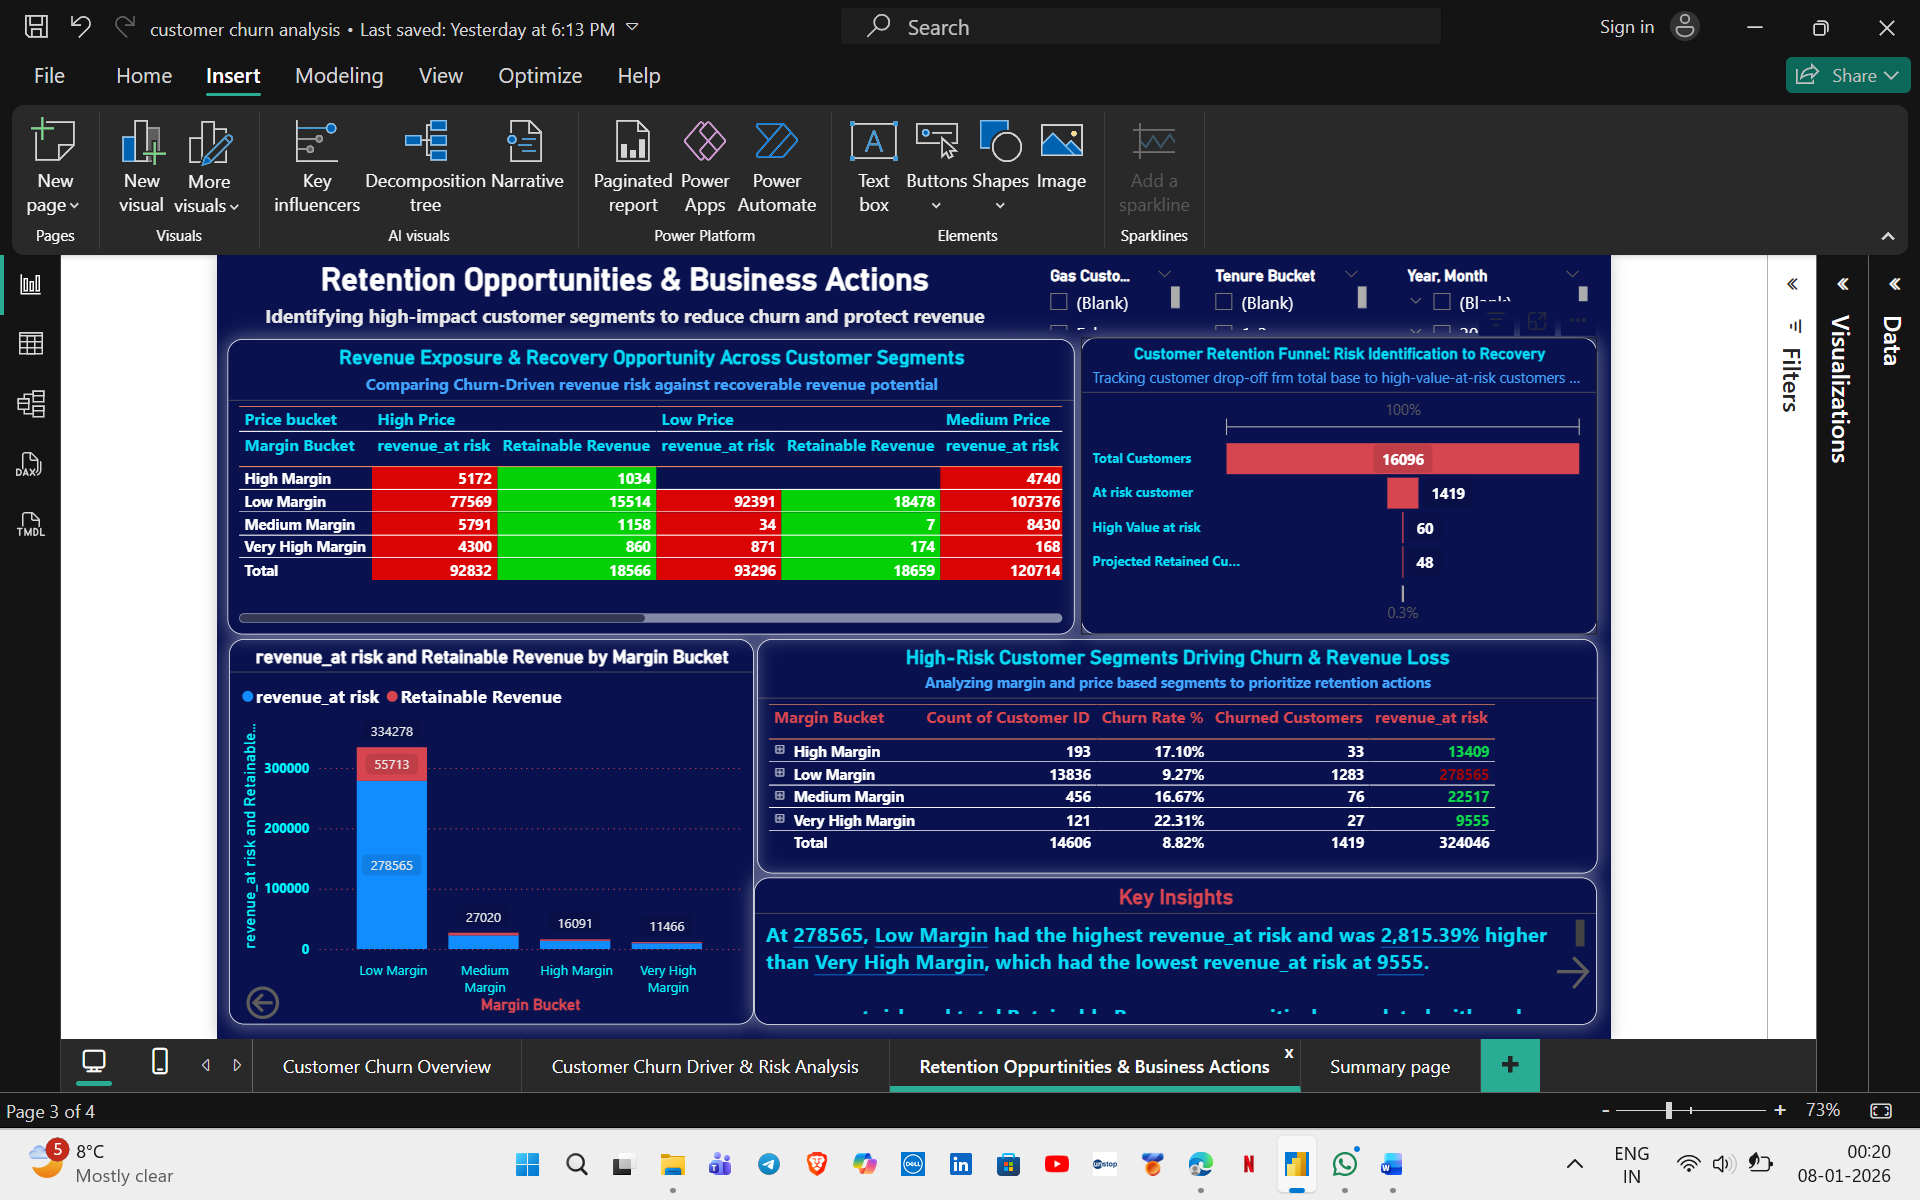

The page's visual inventory and layout, read from the dashboard file:
{"tool":"powerbi","page":{"name":"Retention Oppurtinities & Business Actions","canvas":[1280,720],"ordinal":2},"visuals":[{"type":"pivotTable","title":"High-Risk Customer Segments Driving Churn & Revenue Loss","fields":{"Rows":["client_data.Margin Bucket","client_data.Price bucket","client_data.Tenure Bucket"],"Values":["Count(client_data.Customer ID)","client_data.Churn Rate %","client_data.Churned Customers","client_data.revenue_at risk"]},"box":[496.1,352,771.7,215.5],"z":0},{"type":"shape","title":"Retention Opportunities & Business Actions","box":[10,5,729.9,68.5],"z":1000},{"type":"slicer","fields":{"Values":["client_data.Gas Customer"]},"box":[751.6,5,137,68.5],"z":2000},{"type":"slicer","fields":{"Values":["client_data.Tenure Bucket"]},"box":[903.6,5,157,68.5],"z":3000},{"type":"slicer","fields":{"Values":["Calendar.Date.Variation.Date Hierarchy.Year","Calendar.Date.Variation.Date Hierarchy.Month"]},"box":[1080.7,5,183.7,70.2],"z":4000},{"type":"columnChart","fields":{"Category":["client_data.Margin Bucket"],"Y":["client_data.revenue_at risk","client_data.Retainable Revenue"]},"box":[11,352.7,482.2,354],"z":5000},{"type":"pivotTable","title":"Revenue Exposure & Recovery Opportunity Across Customer Segments","fields":{"Rows":["client_data.Margin Bucket"],"Columns":["client_data.Price bucket"],"Values":["client_data.revenue_at risk","client_data.Retainable Revenue"]},"box":[9.6,77.1,778.3,271.4],"z":6000},{"type":"funnel","title":"Customer Retention Funnel: Risk Identification to Recovery","fields":{"Y":["client_data.Total Customers","client_data.At risk customer","client_data.High Value at risk","client_data.Projected Retained Customer"]},"box":[793.5,75.8,473.9,272.8],"z":7000},{"type":"textbox","title":"Key Insights","box":[493.2,572,774.2,135],"z":8000},{"type":"actionButton","box":[22,666.7,100.6,39.9],"z":9000},{"type":"actionButton","box":[1224.7,639.2,55.1,39.9],"z":10000}]}

Visuals, with their boxes on the page's 1280x720 design canvas (x1, y1, x2, y2). These are canvas units, not pixel positions in the 1920x1200 screenshot, which may show the page scaled, cropped or inside an application window:
"High-Risk Customer Segments Driving Churn & Revenue Loss" pivotTable: crop(496, 352, 1268, 568)
"Retention Opportunities & Business Actions" shape: crop(10, 5, 740, 74)
slicer - client_data.Gas Customer: crop(752, 5, 889, 74)
slicer - client_data.Tenure Bucket: crop(904, 5, 1061, 74)
slicer - Calendar.Date.Variation.Date Hierarchy.Year x Calendar.Date.Variation.Date Hierarchy.Month: crop(1081, 5, 1264, 75)
columnChart - client_data.Margin Bucket x client_data.revenue_at risk: crop(11, 353, 493, 707)
"Revenue Exposure & Recovery Opportunity Across Customer Segments" pivotTable: crop(10, 77, 788, 348)
"Customer Retention Funnel: Risk Identification to Recovery" funnel: crop(794, 76, 1267, 349)
"Key Insights" textbox: crop(493, 572, 1267, 707)
actionButton: crop(22, 667, 123, 707)
actionButton: crop(1225, 639, 1280, 679)
